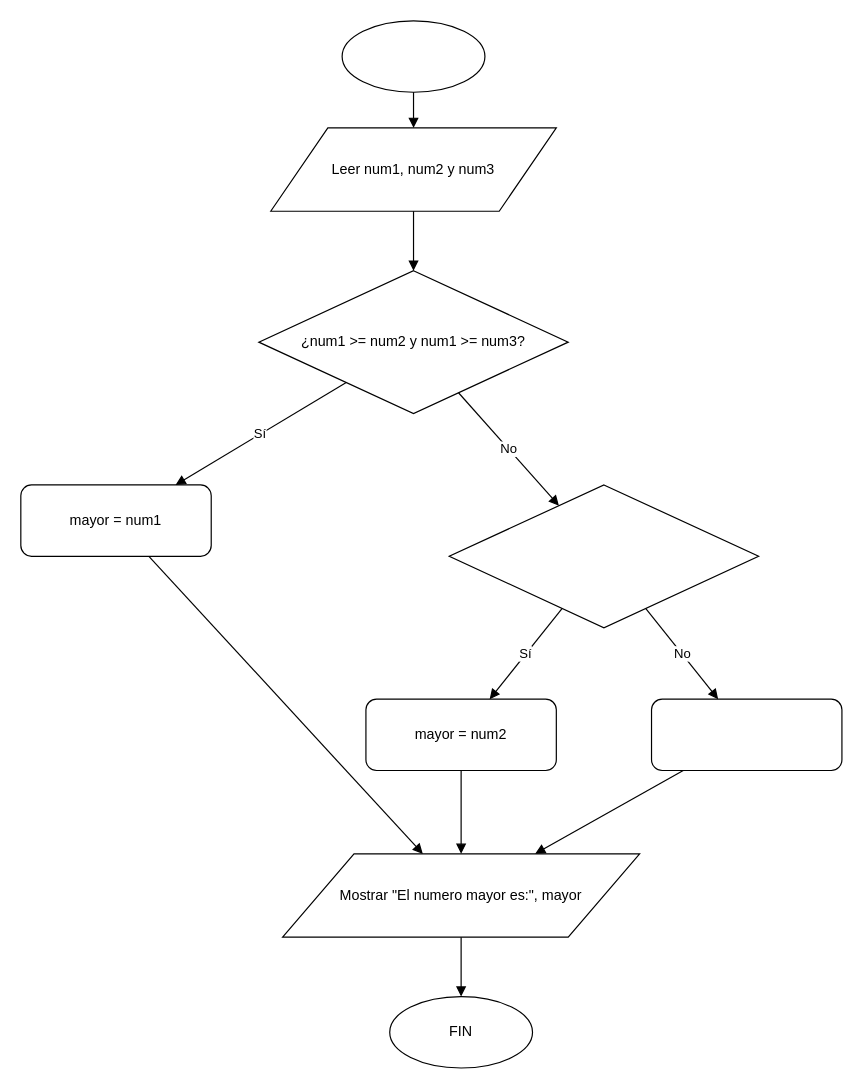
Some shapes in this 863 by 1089 pixel diagram are drawn without their labels. Here are the shapes that lost their labels. From the top down, the centre of each, then its label:
(x=413, y=56): INICIO
(x=603, y=556): ¿num2 >= num1 y num2 >= num3?
(x=746, y=734): mayor = num3
